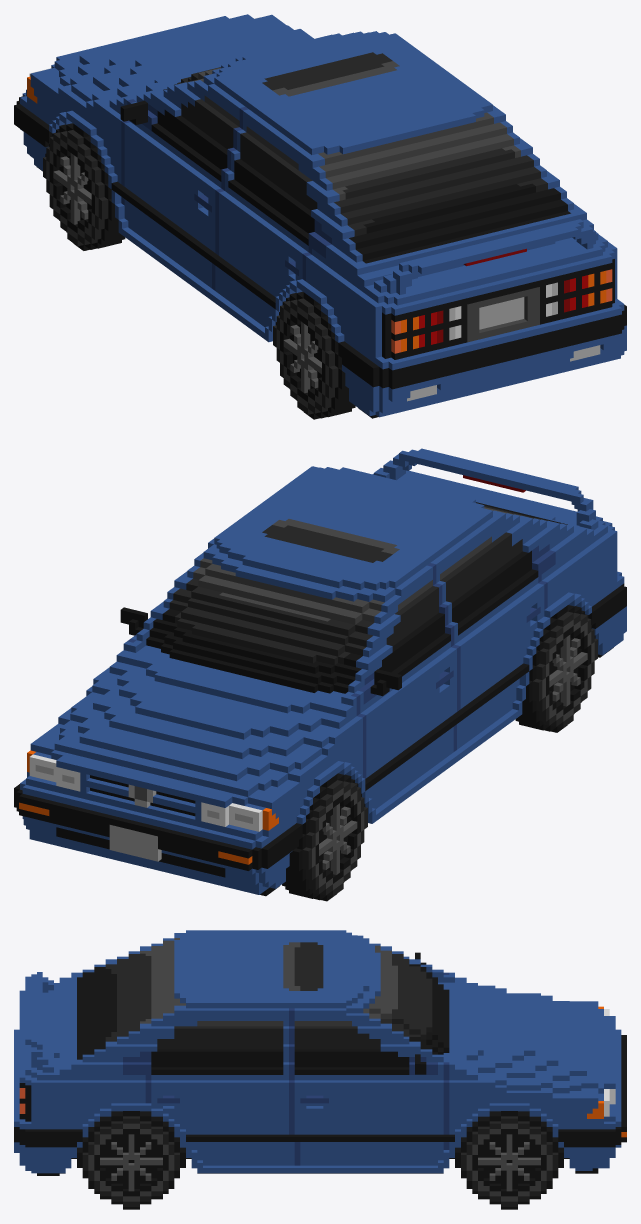
The picture shows the model from 3 angles, top to bottom: view 1: azimuth 30°, elevation 25°; view 2: azimuth 150°, elevation 25°; view 3: azimuth 270°, elevation 25°; orthographic projection. The views are drawn at different scales.
Visible parts, largest first — view 1: VOX; view 2: VOX; view 3: VOX.
Boxes of the visible parts, bbox=[...] form: VOX: bbox=[14, 14, 626, 419]; VOX: bbox=[14, 448, 626, 901]; VOX: bbox=[14, 930, 626, 1209].
Bounding box in the file's own units: 0.046 × 0.037 × 0.107.
